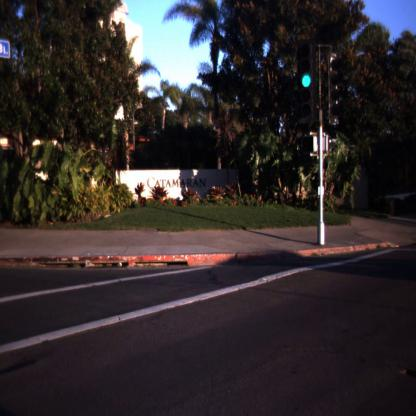trafficlight: (298, 43, 314, 122)
